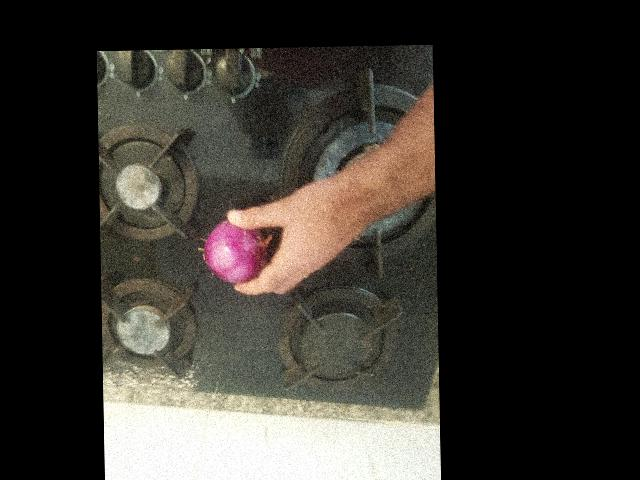onion: (154, 324, 226, 387)
